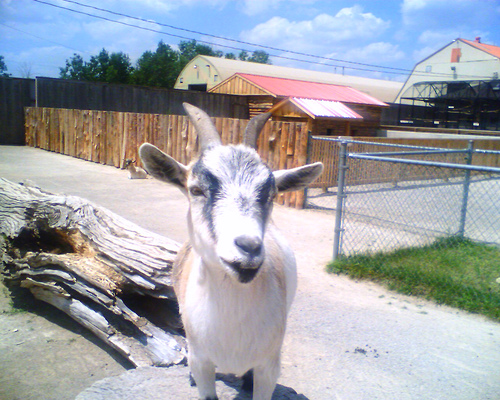goat: (138, 101, 327, 400)
